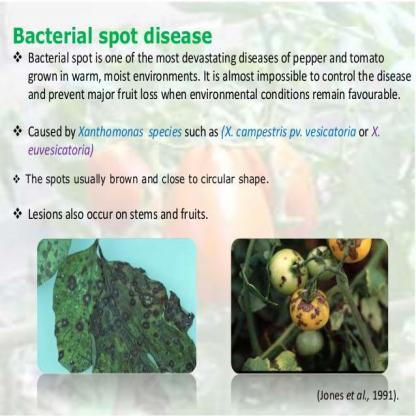tomato leaf bacterial spot: (52, 245, 196, 373)
